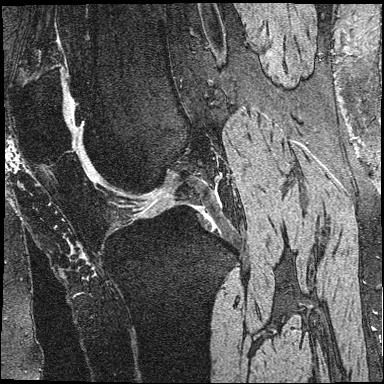SagKneeJointArea: (13, 66, 240, 282)
